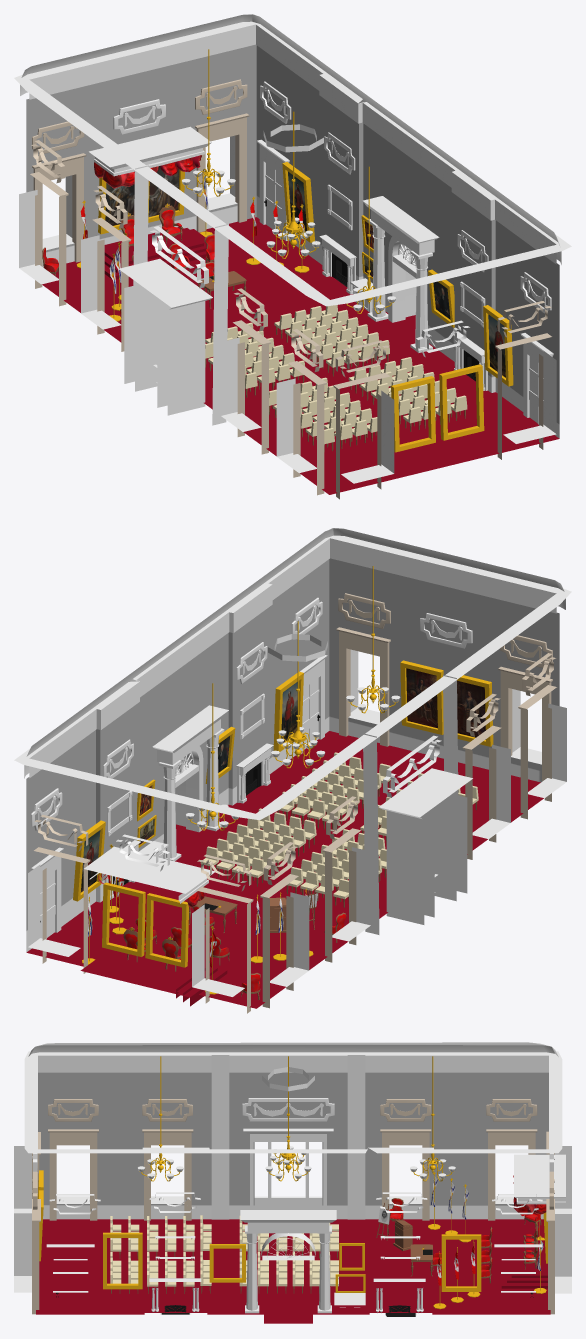
File: ProvinceHouse.glb
The picture shows the model from 3 angles, top to bottom: view 1: azimuth 30°, elevation 25°; view 2: azimuth 150°, elevation 25°; view 3: azimuth 270°, elevation 25°; orthographic projection. The views are drawn at different scales.
Visible parts, largest first — view 1: wallsCeilingDetails walls, wallDetails wallsCeilingDetails grandWindow pCube14, wallDetails wallsCeilingDetails mainEntrance1, wallsCeilingDetails ceiling, Props throneCanopy1, wallDetails wallsCeilingDetails windowTrim4, wallDetails wallsCeilingDetails windowTrim3, wallDetails wallsCeilingDetails windowTrim7, wallDetails wallsCeilingDetails windowTrim5, wallDetails wallsCeilingDetails windowTrim6, wallDetails wallsCeilingDetails squarePillars pCube72, wallDetails wallsCeilingDetails windowTrim8 (+21 smaller); view 2: wallsCeilingDetails walls, wallDetails wallsCeilingDetails grandWindow pCube14, wallDetails wallsCeilingDetails mainEntrance1, wallsCeilingDetails ceiling, wallDetails wallsCeilingDetails windowTrim2, Props throneCanopy1, wallDetails wallsCeilingDetails dais, wallDetails wallsCeilingDetails windowTrim1, wallDetails wallsCeilingDetails windowTrim8, wallDetails wallsCeilingDetails windowTrim7, wallDetails wallsCeilingDetails windowTrim5, wallDetails wallsCeilingDetails pCube45 squarePillars (+19 smaller); view 3: wallsCeilingDetails walls, wallsCeilingDetails ceiling, wallDetails wallsCeilingDetails mainEntrance1, wallDetails wallsCeilingDetails pCube45 squarePillars, wallDetails wallsCeilingDetails squarePillars pCube72, Props throneCanopy1, wallDetails wallsCeilingDetails windowTrim5, wallDetails wallsCeilingDetails windowTrim6, wallDetails wallsCeilingDetails windowTrim8, wallDetails wallsCeilingDetails windowTrim7, wallDetails wallsCeilingDetails grandWindow pCube14, wallDetails wallsCeilingDetails dais (+16 smaller).
Part boxes in pixels (box(x1,y1,x2,y2)): wallsCeilingDetails walls: box(14, 21, 571, 494); wallDetails wallsCeilingDetails grandWindow pCube14: box(118, 258, 212, 415); wallDetails wallsCeilingDetails mainEntrance1: box(363, 196, 439, 352); wallsCeilingDetails ceiling: box(20, 14, 561, 264); Props throneCanopy1: box(89, 126, 211, 188); wallDetails wallsCeilingDetails windowTrim4: box(195, 79, 249, 232); wallDetails wallsCeilingDetails windowTrim3: box(32, 121, 86, 266); wallDetails wallsCeilingDetails windowTrim7: box(30, 140, 68, 306); wallDetails wallsCeilingDetails windowTrim5: box(288, 329, 326, 495); wallDetails wallsCeilingDetails windowTrim6: box(233, 288, 271, 454); wallDetails wallsCeilingDetails squarePillars pCube72: box(212, 224, 228, 425); wallDetails wallsCeilingDetails windowTrim8: box(92, 186, 131, 351); wallsCeilingDetails walls: box(14, 535, 571, 1008); wallDetails wallsCeilingDetails grandWindow pCube14: box(379, 768, 472, 924); wallDetails wallsCeilingDetails mainEntrance1: box(152, 705, 228, 861); wallsCeilingDetails ceiling: box(24, 528, 565, 778); wallDetails wallsCeilingDetails windowTrim2: box(336, 593, 390, 746); Props throneCanopy1: box(84, 846, 214, 907); wallDetails wallsCeilingDetails dais: box(80, 943, 227, 1006); wallDetails wallsCeilingDetails windowTrim1: box(498, 635, 552, 781); wallDetails wallsCeilingDetails windowTrim8: box(322, 796, 360, 962); wallDetails wallsCeilingDetails windowTrim7: box(260, 842, 298, 1008); wallDetails wallsCeilingDetails windowTrim5: box(518, 653, 556, 819); wallDetails wallsCeilingDetails pCube45 squarePillars: box(363, 733, 379, 934); wallsCeilingDetails walls: box(14, 1051, 571, 1323); wallsCeilingDetails ceiling: box(28, 1042, 558, 1091); wallDetails wallsCeilingDetails mainEntrance1: box(240, 1210, 336, 1313); wallDetails wallsCeilingDetails pCube45 squarePillars: box(347, 1055, 365, 1219); wallDetails wallsCeilingDetails squarePillars pCube72: box(211, 1055, 229, 1219); Props throneCanopy1: box(513, 1154, 565, 1215); wallDetails wallsCeilingDetails windowTrim5: box(48, 1099, 98, 1220); wallDetails wallsCeilingDetails windowTrim6: box(142, 1099, 193, 1220); wallDetails wallsCeilingDetails windowTrim8: box(380, 1099, 431, 1220); wallDetails wallsCeilingDetails windowTrim7: box(486, 1099, 537, 1220); wallDetails wallsCeilingDetails grandWindow pCube14: box(243, 1128, 333, 1209); wallDetails wallsCeilingDetails dais: box(501, 1240, 547, 1288).
Bounding box in the file's own units: 1348 × 1134 × 2670.
Materials: 1 (1 with a texture image).
